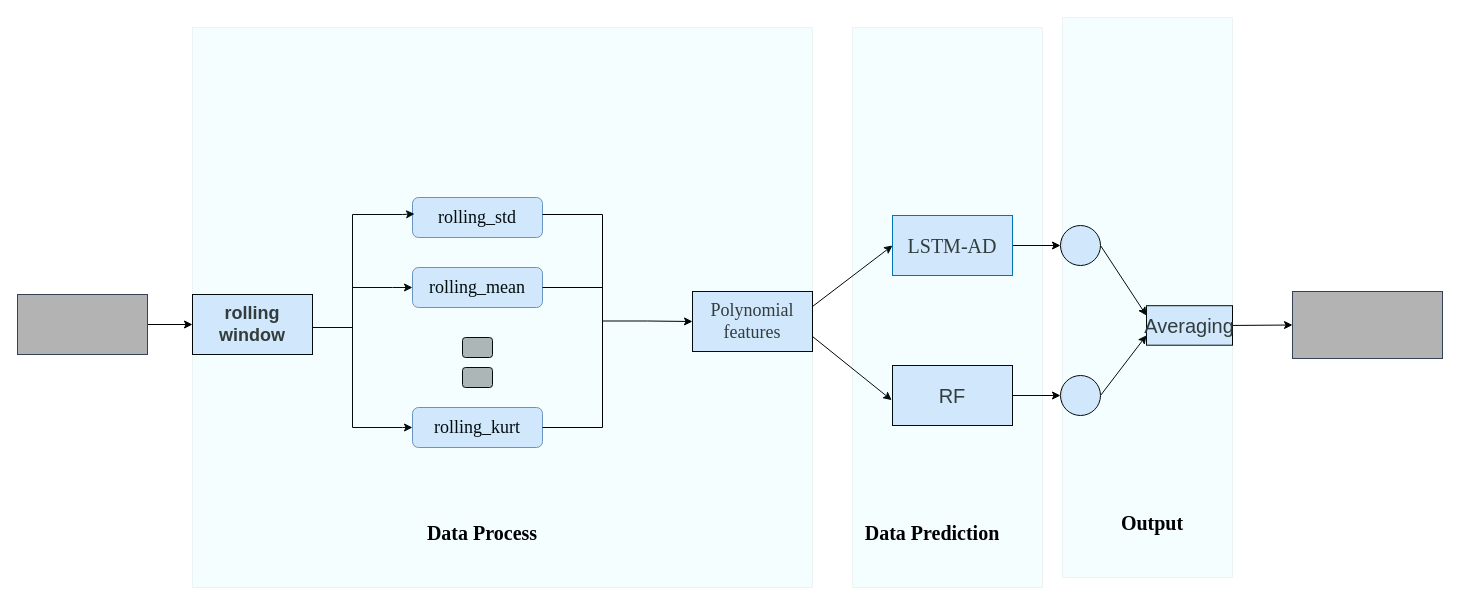
The diagram is 1460 pixels wide and 605 high, and some of its shapes have lost their labels. Each missing label, with the centre of its shape:
"Final Presuction Result" goes at point 1367,324.
"Original Data" goes at point 82,324.
